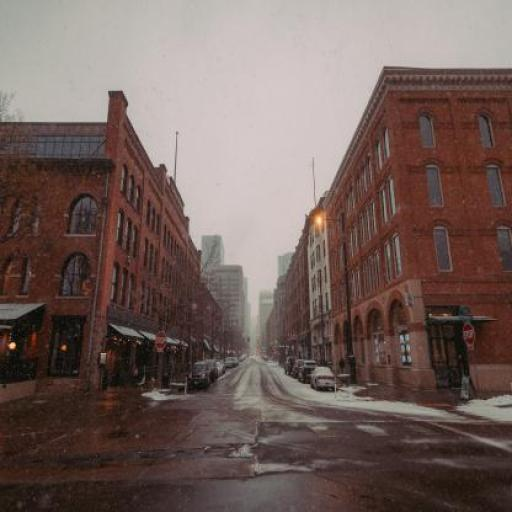street light: (316, 215, 356, 384)
